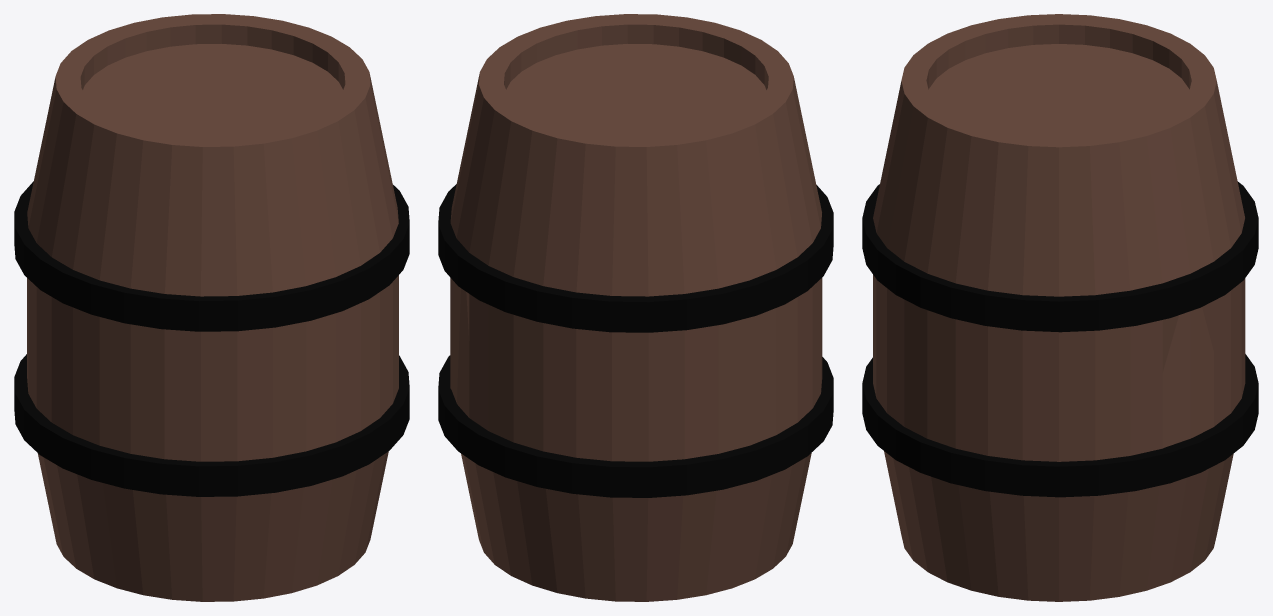
The model's file is Barrel.fbx.
3 views of the same model, side by side, from view 1: azimuth 30°, elevation 25°; view 2: azimuth 150°, elevation 25°; view 3: azimuth 270°, elevation 25° (orthographic).
Visible parts, largest first — view 1: Barrel; view 2: Barrel; view 3: Barrel.
Part boxes in pixels (box(x1,y1,x2,y2)): Barrel: box(14, 14, 409, 601); Barrel: box(438, 14, 833, 601); Barrel: box(862, 14, 1258, 601).
Bounding box in the file's own units: 251 × 318 × 251.
